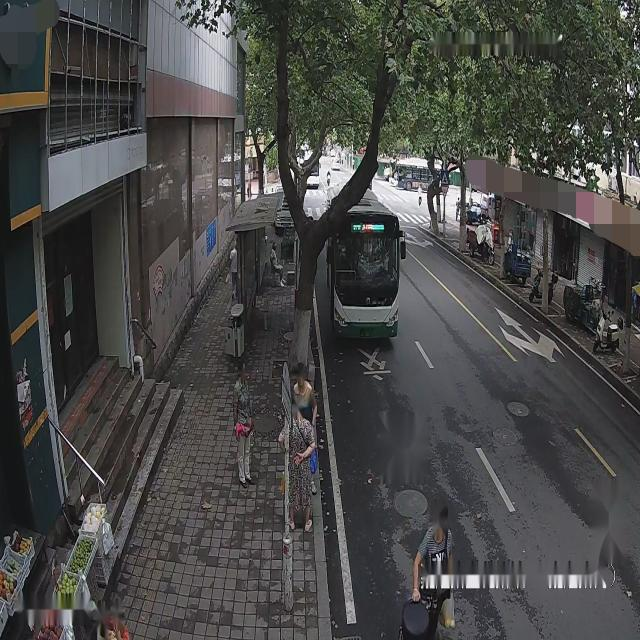fixed_stall: (2, 503, 111, 635)
